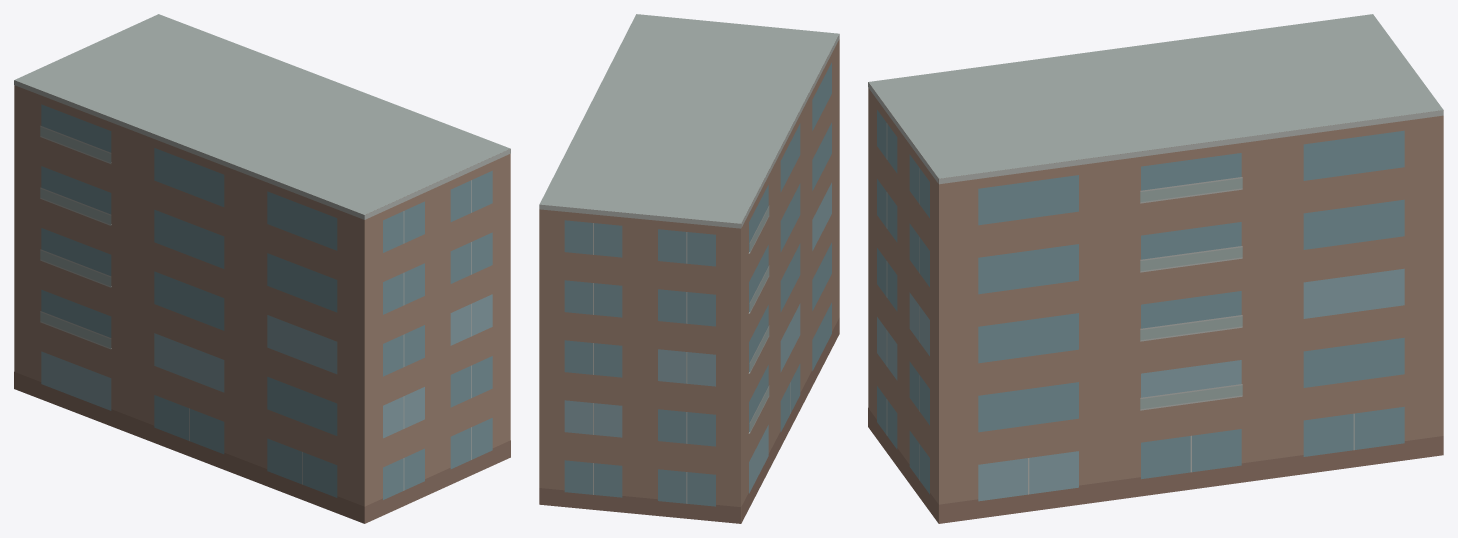
File: survey-upis-32620512.glb
3 views of the same model, side by side, from view 1: azimuth 30°, elevation 25°; view 2: azimuth 150°, elevation 25°; view 3: azimuth 270°, elevation 25° (orthographic). The views are drawn at different scales.
Visible parts, largest first — view 1: survey-upis-32620512.tmp; view 2: survey-upis-32620512.tmp; view 3: survey-upis-32620512.tmp.
Boxes of the visible parts, x1,y1,x2,y2 form: survey-upis-32620512.tmp: (14, 14, 510, 523); survey-upis-32620512.tmp: (539, 14, 839, 523); survey-upis-32620512.tmp: (868, 14, 1443, 523).
Size of the model in its own units: 15.63 by 15.25 by 23.06.
